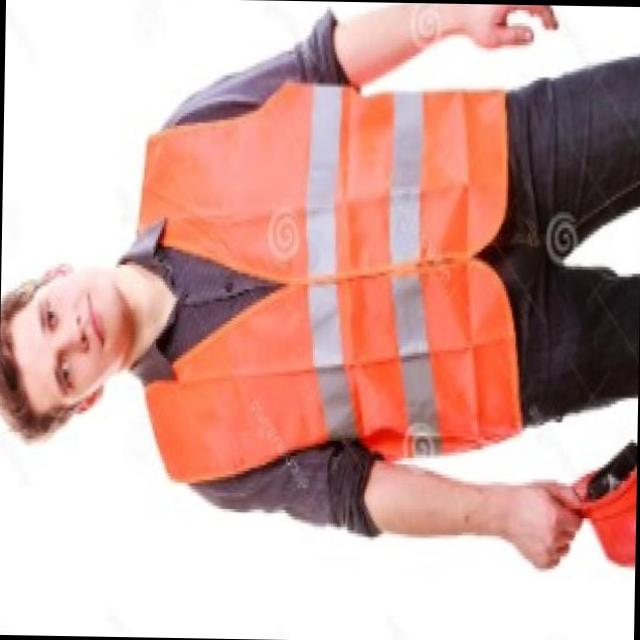not-gloved: (488, 456, 584, 584), (454, 2, 562, 62)
